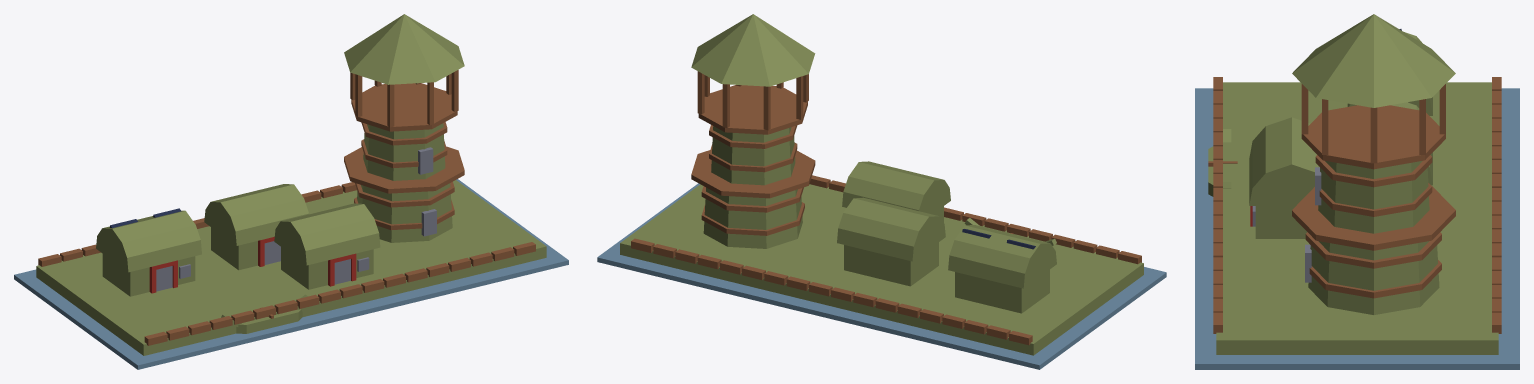
File: house-2x1-2f-third-totora-a-solar.glb
3 renders of one model, left to right at view 1: azimuth 30°, elevation 25°; view 2: azimuth 150°, elevation 25°; view 3: azimuth 270°, elevation 25°, orthographic. The views are drawn at different scales.
Visible parts, largest first — view 1: house-2x1-2f-third-totora-a-solar; view 2: house-2x1-2f-third-totora-a-solar; view 3: house-2x1-2f-third-totora-a-solar.
Boxes of the visible parts, x1=… form: house-2x1-2f-third-totora-a-solar: x1=14, y1=14, x2=568, y2=369; house-2x1-2f-third-totora-a-solar: x1=597, y1=14, x2=1166, y2=369; house-2x1-2f-third-totora-a-solar: x1=1195, y1=14, x2=1519, y2=369.
Bounding box in the file's own units: 1.99 × 0.99 × 0.99.
1 material, 1 textured.
